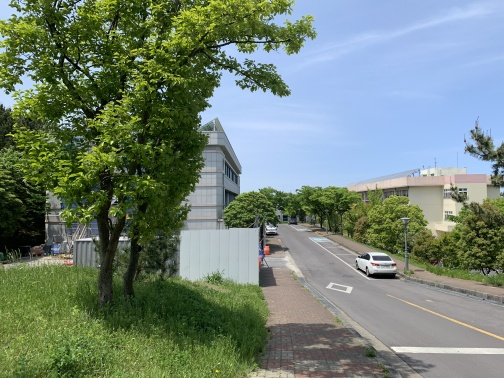College Of Education: (343, 165, 502, 234)
